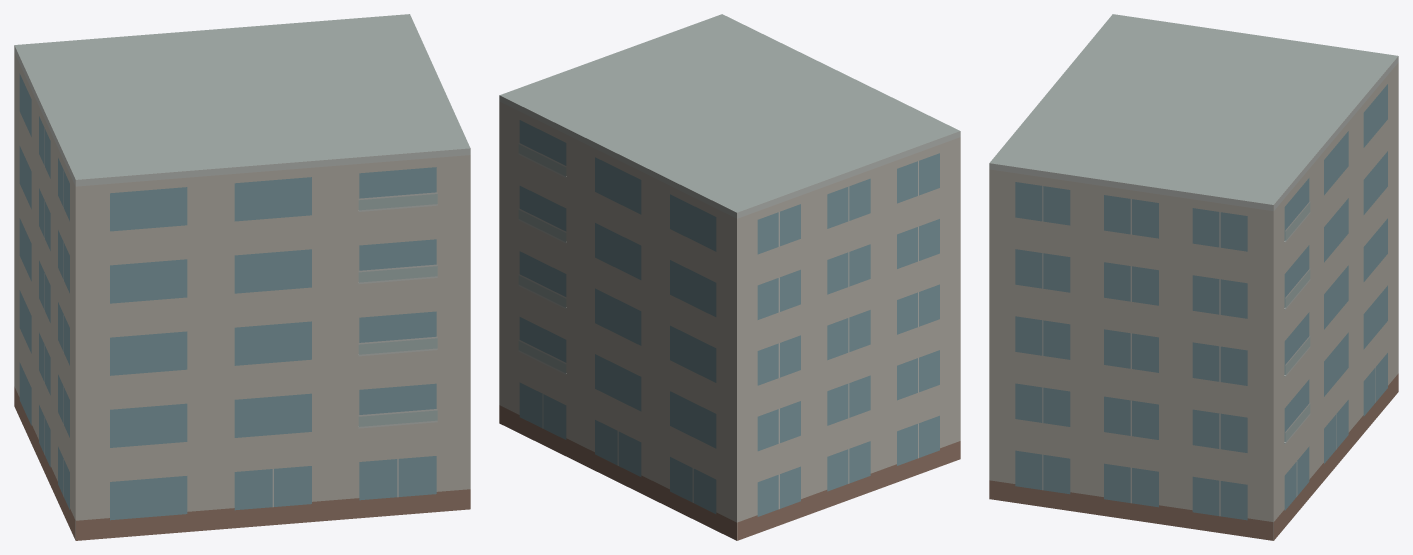
The model's file is survey-upis-32961429.glb.
3 views of the same model, side by side, from view 1: azimuth 30°, elevation 25°; view 2: azimuth 150°, elevation 25°; view 3: azimuth 270°, elevation 25° (orthographic). The views are drawn at different scales.
Parts seen in each view (by area): view 1: survey-upis-32961429.tmp; view 2: survey-upis-32961429.tmp; view 3: survey-upis-32961429.tmp.
Boxes of the visible parts, x1,y1,x2,y2 form: survey-upis-32961429.tmp: (14, 14, 470, 540); survey-upis-32961429.tmp: (499, 14, 960, 540); survey-upis-32961429.tmp: (989, 14, 1398, 540).
Size of the model in its own units: 16.11 by 13.2 by 14.59.
